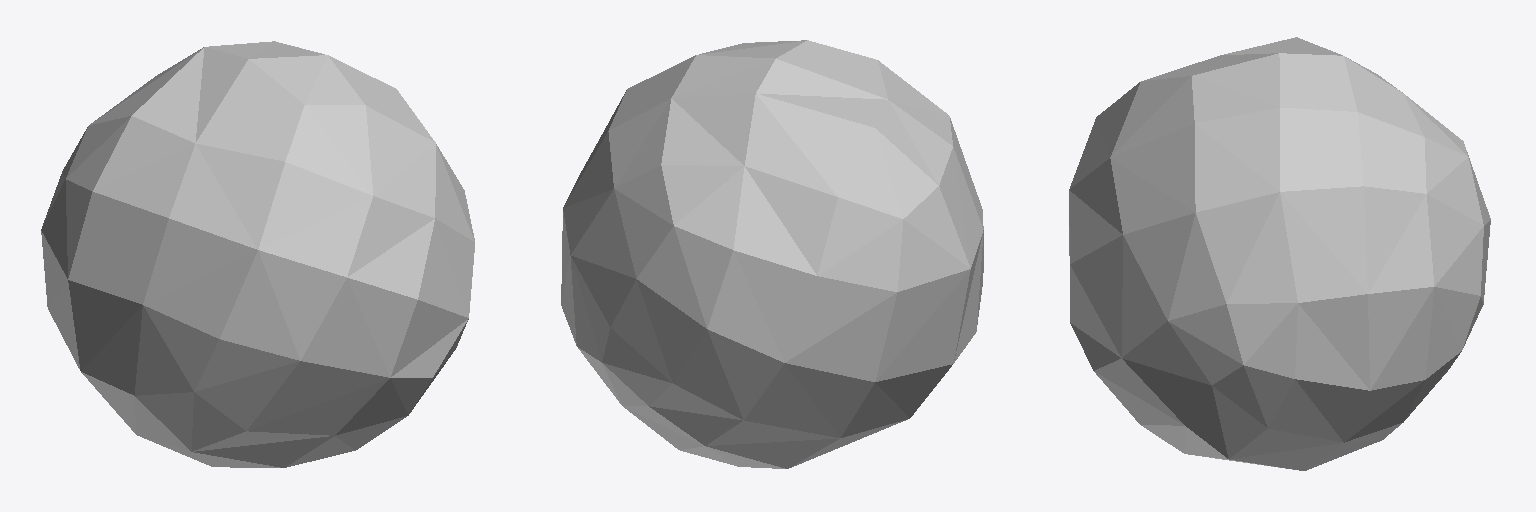
The model's file is UVTileSPhere.obj.
3 renders of one model, left to right at view 1: azimuth 30°, elevation 25°; view 2: azimuth 150°, elevation 25°; view 3: azimuth 270°, elevation 25°, orthographic.
Parts seen in each view (by area): view 1: Group4815; view 2: Group4815; view 3: Group4815.
Boxes of the visible parts, x1,y1,x2,y2 form: Group4815: [41, 41, 474, 467]; Group4815: [561, 40, 983, 468]; Group4815: [1069, 37, 1490, 470].
Bounding box in the file's own units: 2 × 1.95 × 1.87.